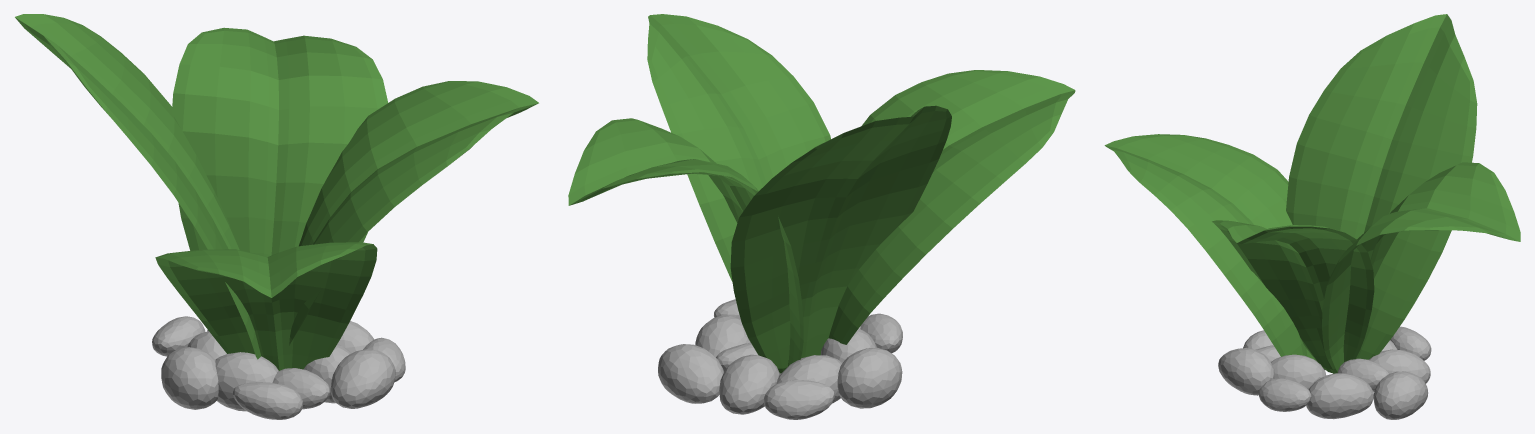
File: Jade_M.fbx
3 renders of one model, left to right at view 1: azimuth 30°, elevation 25°; view 2: azimuth 150°, elevation 25°; view 3: azimuth 270°, elevation 25°, orthographic. The views are drawn at different scales.
Parts seen in each view (by area): view 1: Plane.015; view 2: Plane.015; view 3: Plane.015.
Part boxes in pixels (x1,y1,x2,y2): Plane.015: [15, 14, 538, 419]; Plane.015: [568, 14, 1075, 419]; Plane.015: [1104, 14, 1520, 419].
Size of the model in its own units: 123 by 109 by 137.
